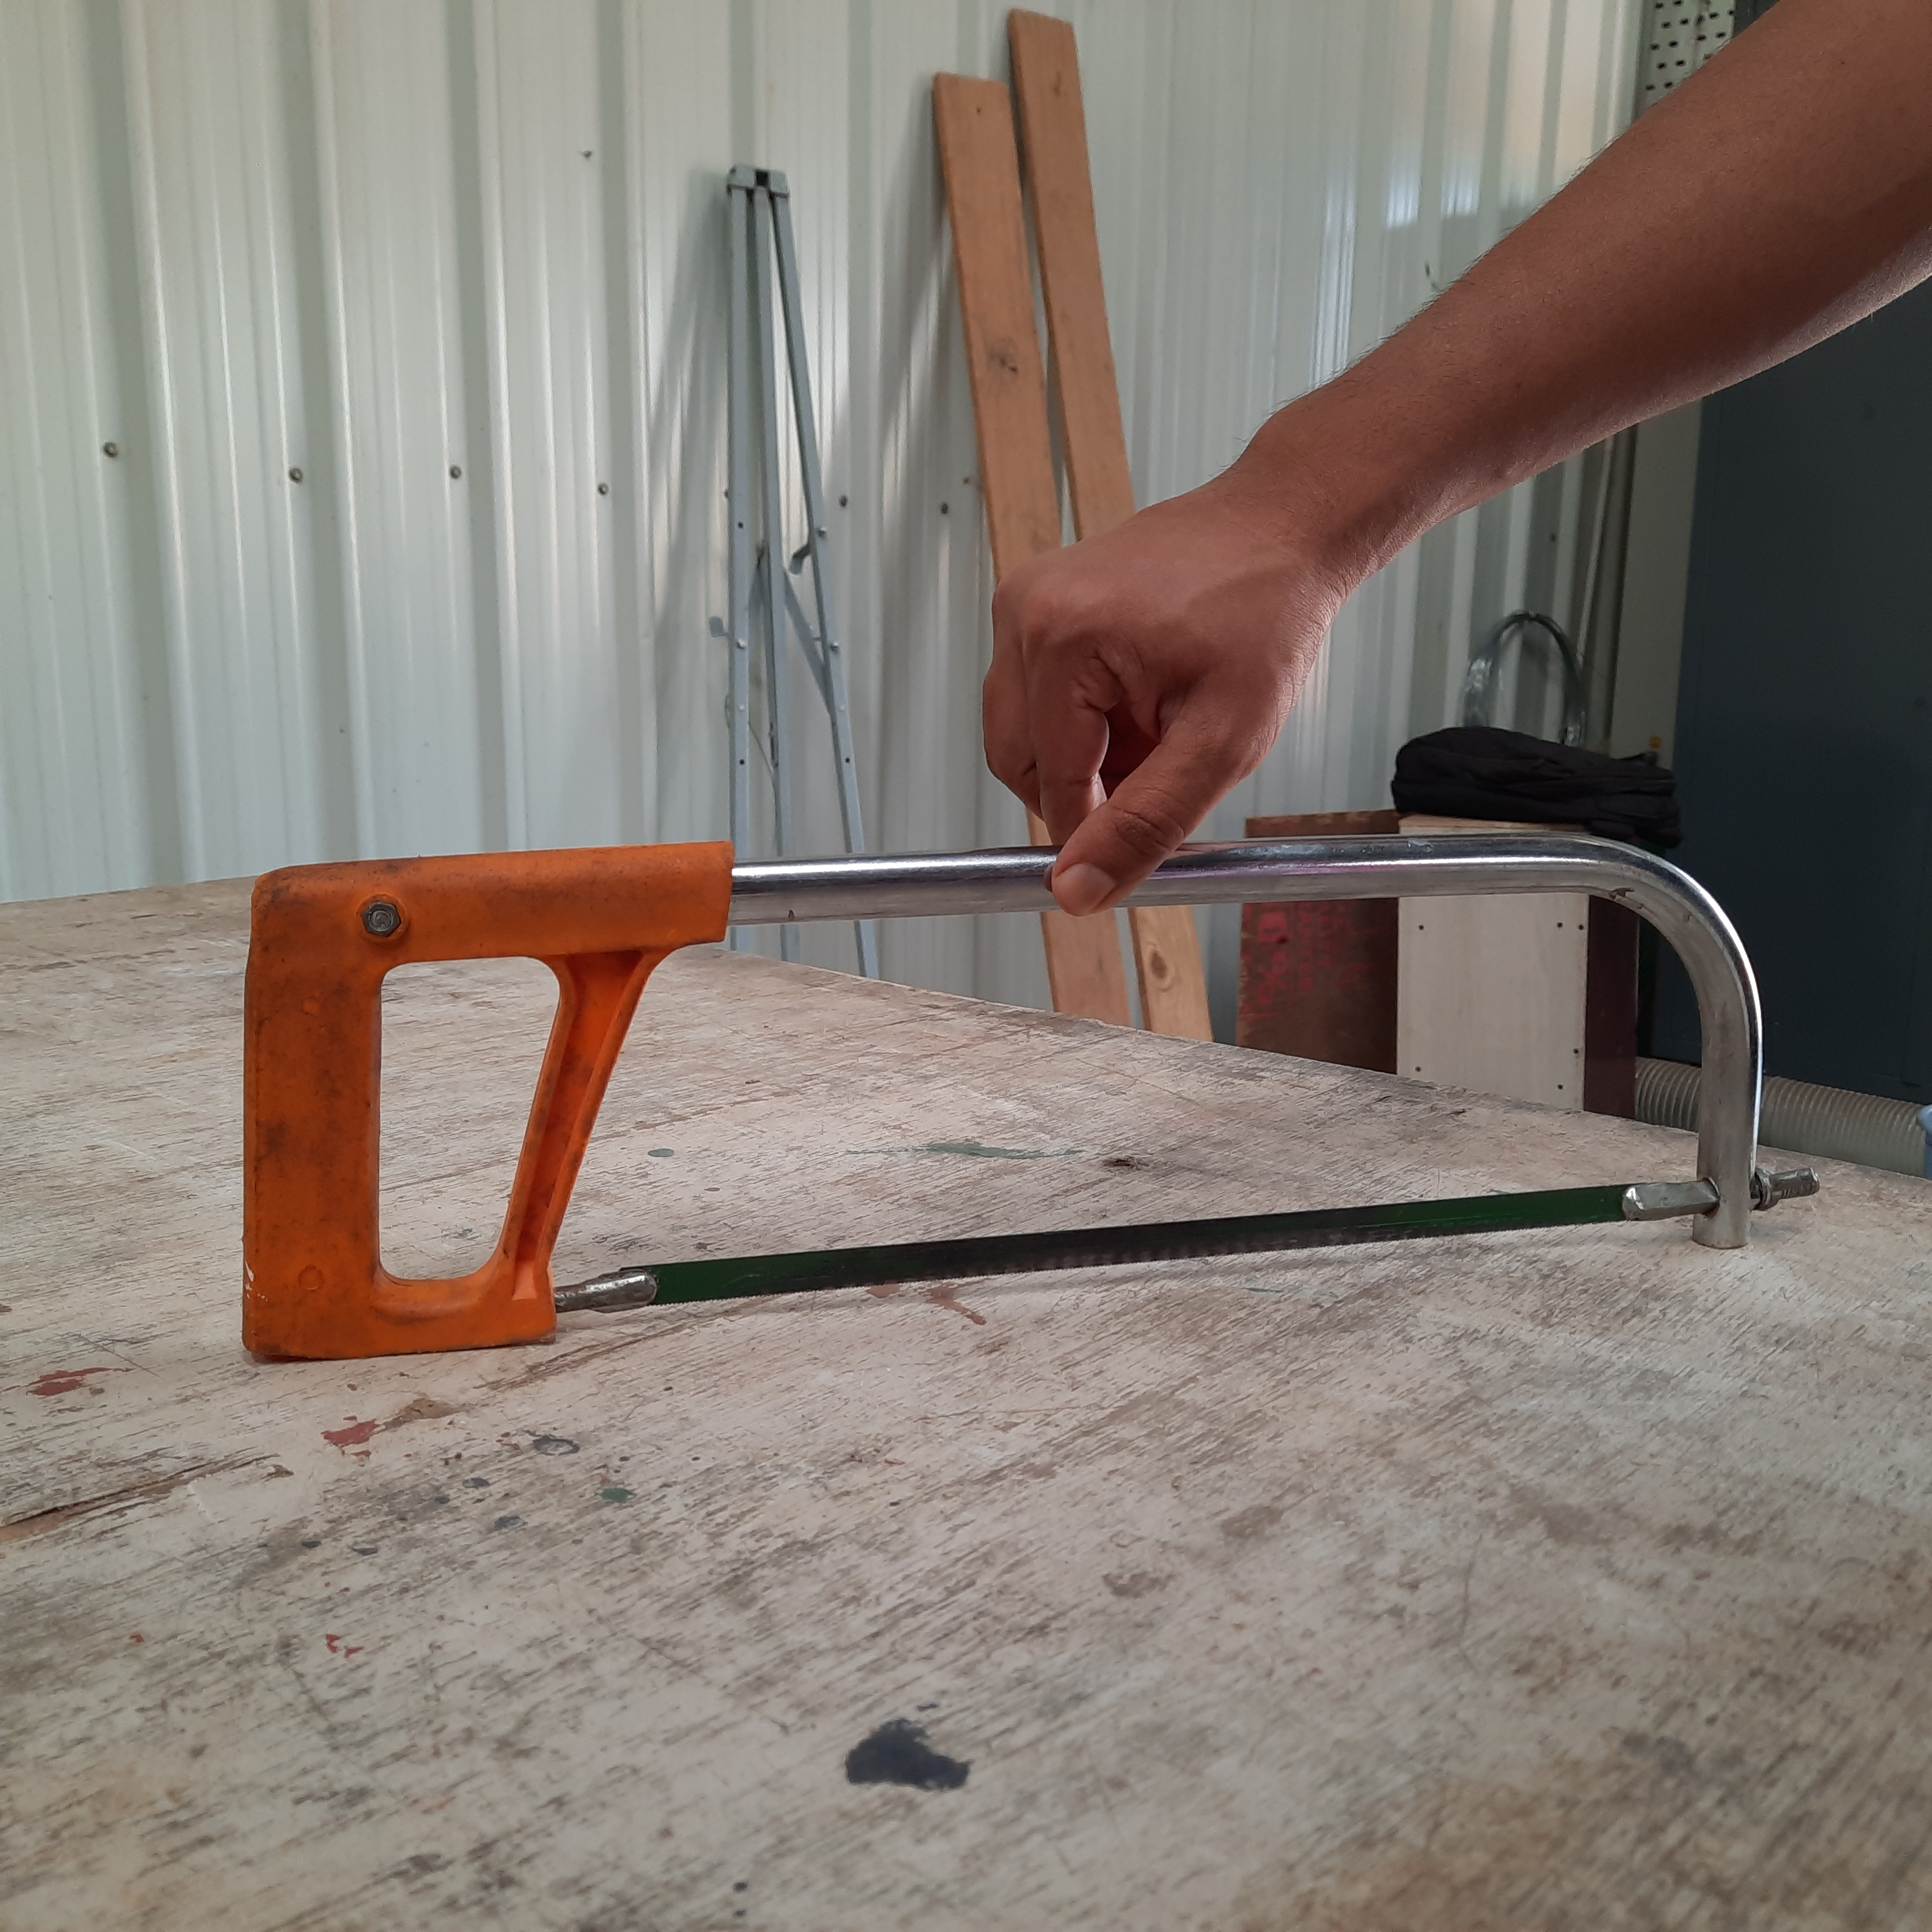Hexaframe: (173, 787, 1817, 1366)
